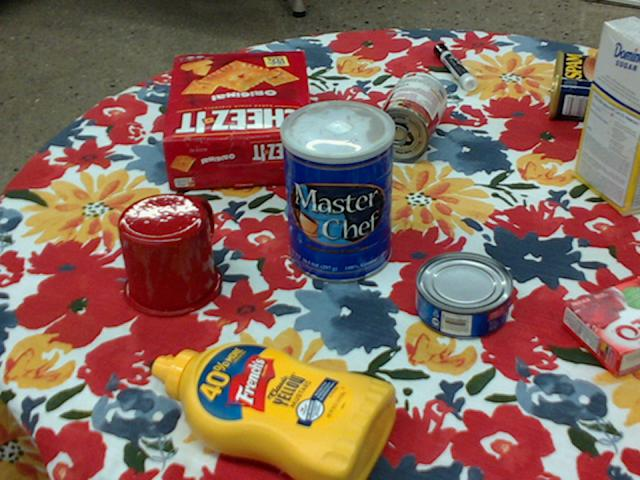cracker_box: (162, 50, 315, 187)
gelatin_box: (562, 277, 639, 376)
large_marker: (435, 42, 476, 89)
master_chef_can: (278, 99, 393, 283)
mug: (116, 192, 222, 317)
mustard_bottle: (152, 341, 397, 479)
potted_meat_can: (547, 47, 626, 121)
sugar_box: (572, 17, 639, 216)
tomato_soup_can: (370, 70, 445, 161)
tuna_fish_can: (416, 252, 513, 339)
